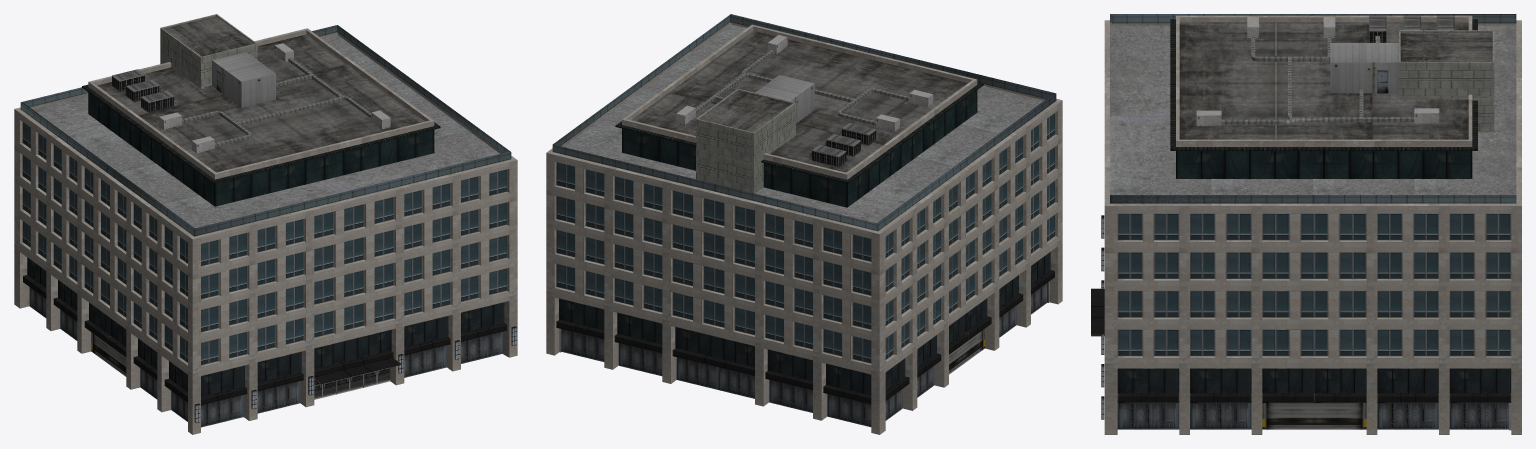
File: AIT01.fbx
The picture shows the model from 3 angles, left to right: view 1: azimuth 30°, elevation 25°; view 2: azimuth 150°, elevation 25°; view 3: azimuth 270°, elevation 25°; orthographic projection. The views are drawn at different scales.
Parts seen in each view (by area): view 1: AIT01W2W3_AIT01W2W3_0, AIT01W2W3_AIT01W2W3_0.001; view 2: AIT01W2W3_AIT01W2W3_0, AIT01W2W3_AIT01W2W3_0.001; view 3: AIT01W2W3_AIT01W2W3_0, AIT01W2W3_AIT01W2W3_0.001.
Part boxes in pixels (x1,y1,x2,y2): AIT01W2W3_AIT01W2W3_0: [14, 14, 517, 434]; AIT01W2W3_AIT01W2W3_0.001: [22, 122, 507, 427]; AIT01W2W3_AIT01W2W3_0: [546, 14, 1062, 434]; AIT01W2W3_AIT01W2W3_0.001: [556, 113, 1055, 427]; AIT01W2W3_AIT01W2W3_0: [1091, 14, 1521, 434]; AIT01W2W3_AIT01W2W3_0.001: [1117, 214, 1511, 429].
Bounding box in the file's own units: 1891 × 1404 × 1854.
2 materials, 2 textured.
